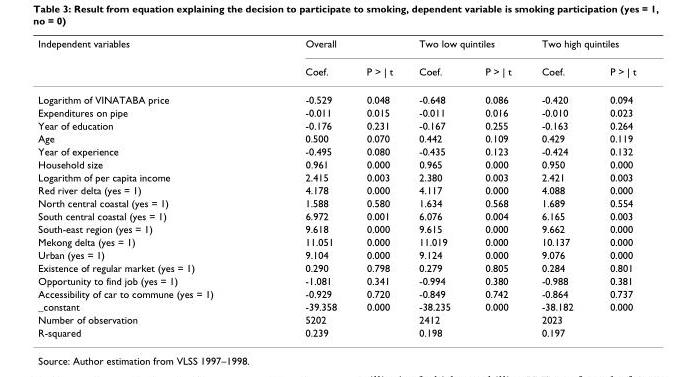table: (37, 37, 635, 338)
table column: (37, 37, 258, 338), (258, 37, 351, 338), (525, 37, 590, 338), (405, 37, 467, 338), (467, 37, 525, 338), (351, 37, 405, 338), (590, 37, 635, 338)
table column header: (37, 37, 635, 85)
table row: (37, 57, 635, 85), (37, 37, 635, 57), (37, 85, 635, 105), (37, 105, 635, 118), (37, 118, 635, 131), (37, 131, 635, 144), (37, 144, 635, 157), (37, 157, 635, 170), (37, 170, 635, 183), (37, 183, 635, 196), (37, 196, 635, 209), (37, 209, 635, 222), (37, 222, 635, 235), (37, 235, 635, 248), (37, 260, 635, 273), (37, 273, 635, 286), (37, 286, 635, 299), (37, 299, 635, 312), (37, 312, 635, 325), (37, 325, 635, 338), (37, 248, 635, 260)
table spanning cell: (37, 37, 258, 85), (258, 37, 405, 57), (405, 37, 525, 57), (525, 37, 635, 57)
